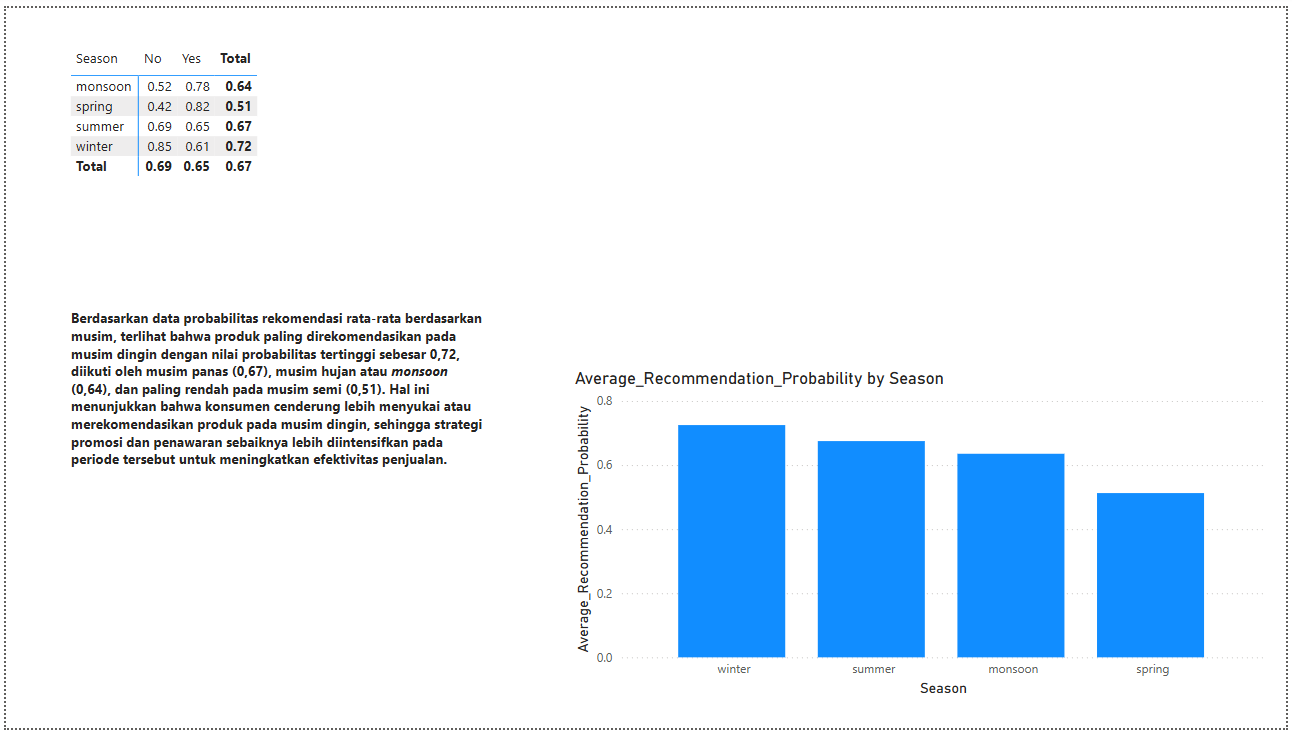

Layout of this report page (visuals, bound fields, positions):
{"tool":"powerbi","page":{"name":"Page 3","canvas":[1280,720],"ordinal":2},"visuals":[{"type":"pivotTable","fields":{"Rows":["content_based_recommendation_dataset.Season"],"Columns":["content_based_recommendation_dataset.Holiday"],"Values":["content_based_recommendation_dataset.Average_Recommendation_Probability"]},"box":[60,33.3,198.3,140],"z":0},{"type":"lineClusteredColumnComboChart","fields":{"Category":["content_based_recommendation_dataset.Season"],"Y":["content_based_recommendation_dataset.Average_Recommendation_Probability"]},"box":[563.3,360,700,333.3],"z":1000},{"type":"textbox","box":[59.9,295.9,430.4,181],"z":1001}]}

Visuals, with their boxes in screenshot pixels (x1, y1, x2, y2), scaled from the page's 1280x720 canvas onto the 1292x731 screenshot:
pivotTable - content_based_recommendation_dataset.Season x content_based_recommendation_dataset.Holiday: (61,34,261,176)
lineClusteredColumnComboChart - content_based_recommendation_dataset.Season x content_based_recommendation_dataset.Average_Recommendation_Probability: (569,366,1275,704)
textbox: (60,300,495,484)
